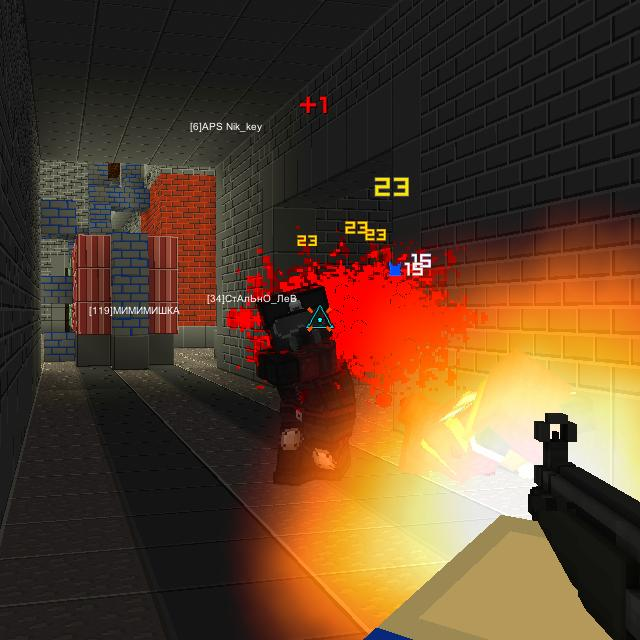enemy: (250, 280, 361, 482)
